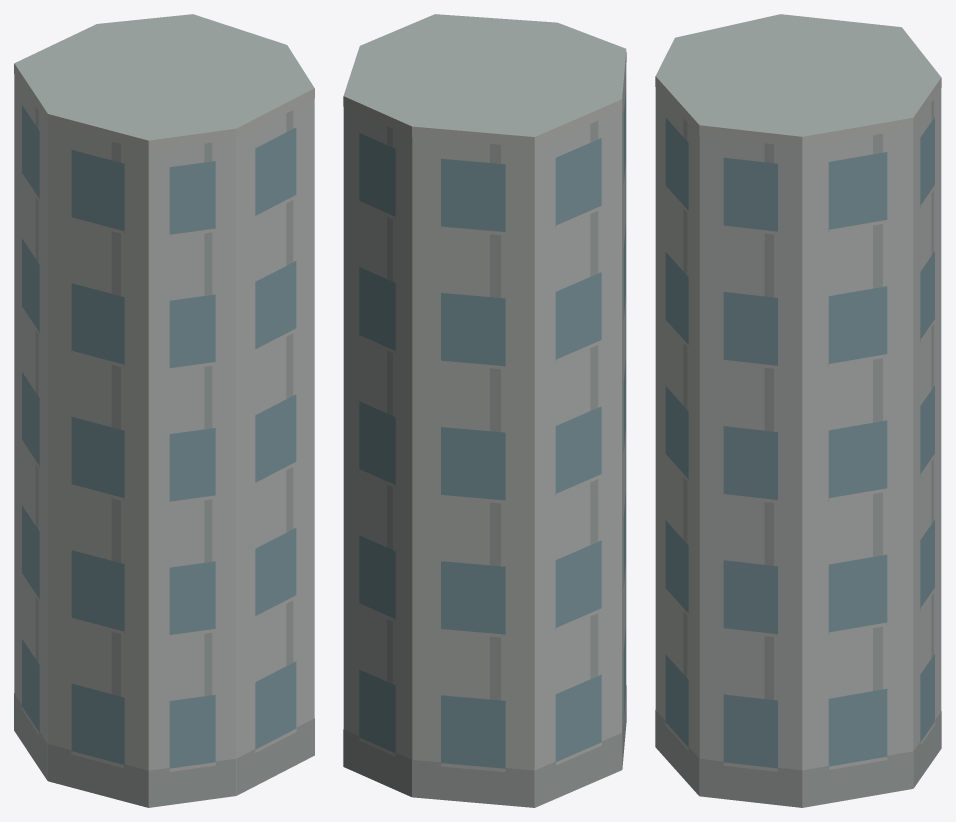
Rendered from survey-upis-32703580.glb.
The picture shows the model from 3 angles, left to right: view 1: azimuth 30°, elevation 25°; view 2: azimuth 150°, elevation 25°; view 3: azimuth 270°, elevation 25°; orthographic projection.
Visible parts, largest first — view 1: survey-upis-32703580.tmp; view 2: survey-upis-32703580.tmp; view 3: survey-upis-32703580.tmp.
Part boxes in pixels (box(x1,y1,x2,y2)): survey-upis-32703580.tmp: box(14, 14, 314, 807); survey-upis-32703580.tmp: box(343, 14, 626, 807); survey-upis-32703580.tmp: box(655, 14, 941, 807).
Bounding box in the file's own units: 5.99 × 15.25 × 5.9.
